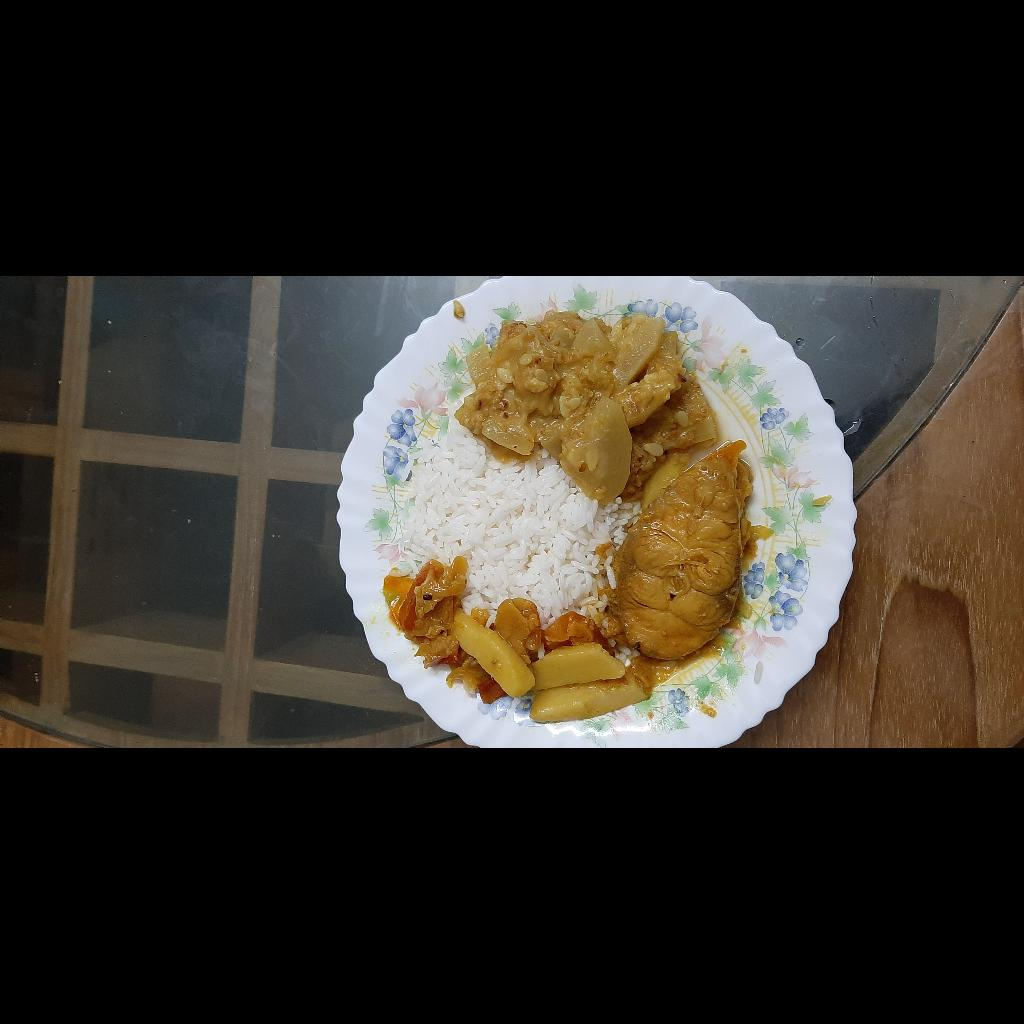fish: (85, 881, 310, 1024)
lau: (239, 729, 439, 995)
potato: (24, 729, 134, 922), (239, 911, 302, 970)
rice: (115, 675, 334, 921)
tomato: (40, 664, 196, 783), (89, 772, 150, 887)
